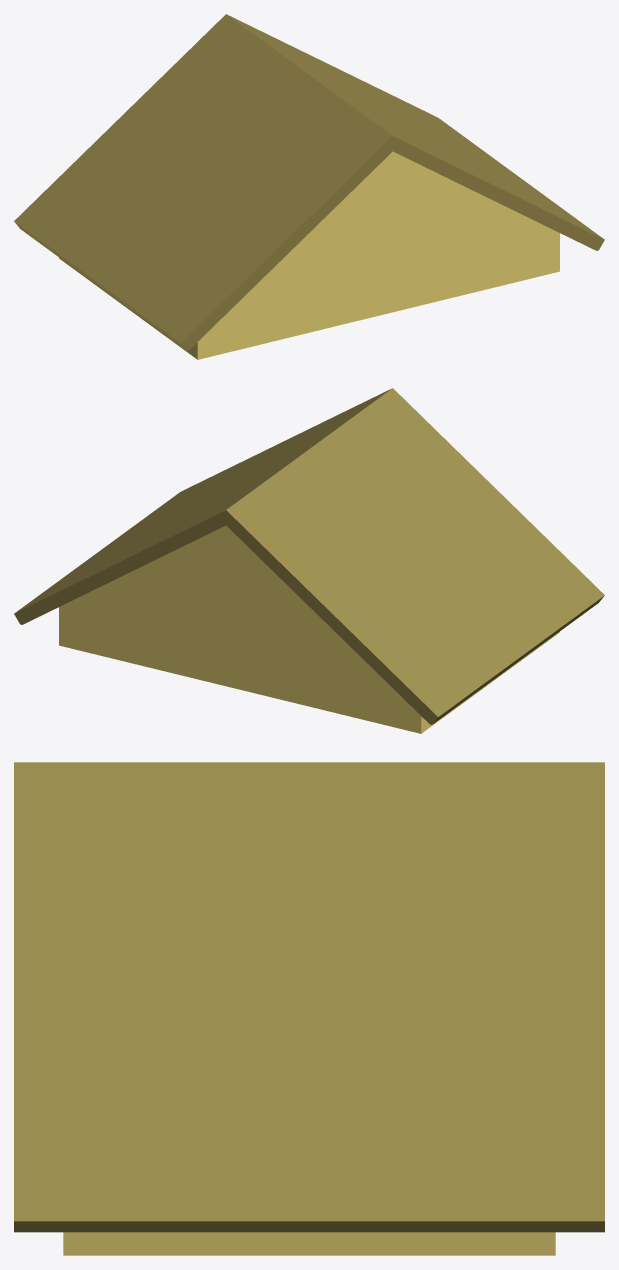
The model's file is result.glb.
The picture shows the model from 3 angles, top to bottom: view 1: azimuth 30°, elevation 25°; view 2: azimuth 150°, elevation 25°; view 3: azimuth 270°, elevation 25°; orthographic projection. The views are drawn at different scales.
Visible parts, largest first — view 1: 695edc9f-ba49-492b-ac36-6b6ba1f00234__undefined (×2), d1126a98-7182-406c-bcff-48069322a958__undefined; view 2: 695edc9f-ba49-492b-ac36-6b6ba1f00234__undefined (×2), d1126a98-7182-406c-bcff-48069322a958__undefined; view 3: 695edc9f-ba49-492b-ac36-6b6ba1f00234__undefined, d1126a98-7182-406c-bcff-48069322a958__undefined.
Part boxes in pixels (<box>): 695edc9f-ba49-492b-ac36-6b6ba1f00234__undefined (×2): <box>14,14,604,350</box>; d1126a98-7182-406c-bcff-48069322a958__undefined: <box>59,151,559,359</box>; 695edc9f-ba49-492b-ac36-6b6ba1f00234__undefined (×2): <box>14,388,604,724</box>; d1126a98-7182-406c-bcff-48069322a958__undefined: <box>59,525,559,733</box>; 695edc9f-ba49-492b-ac36-6b6ba1f00234__undefined: <box>14,762,604,1232</box>; d1126a98-7182-406c-bcff-48069322a958__undefined: <box>63,1232,555,1255</box>.
Size of the model in its own units: 882 by 377 by 600.
